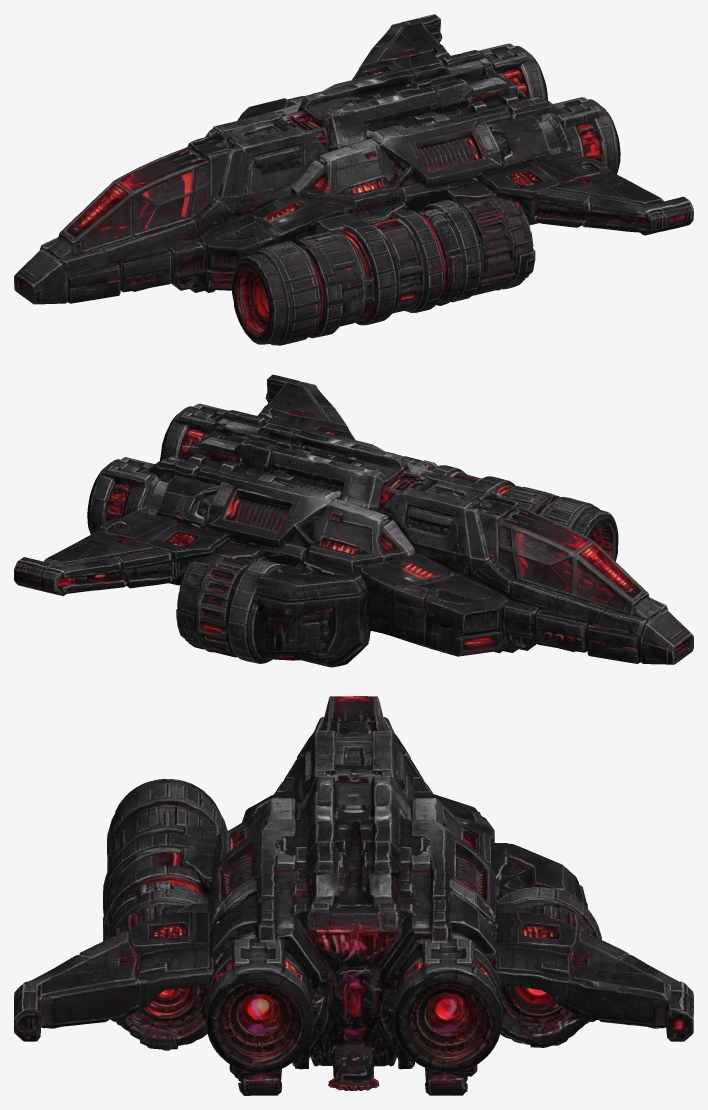
Rendered from pyro.glb.
The picture shows the model from 3 angles, top to bottom: view 1: azimuth 30°, elevation 25°; view 2: azimuth 150°, elevation 25°; view 3: azimuth 270°, elevation 25°; orthographic projection. The views are drawn at different scales.
Parts seen in each view (by area): view 1: mesh_0; view 2: mesh_0; view 3: mesh_0.
Boxes of the visible parts, x1=… form: mesh_0: x1=14, y1=14, x2=693, y2=345; mesh_0: x1=14, y1=374, x2=693, y2=667; mesh_0: x1=14, y1=696, x2=693, y2=1095.
Bounding box in the file's own units: 1.9 × 0.5245 × 1.59.
Materials: 1 (1 with a texture image).
